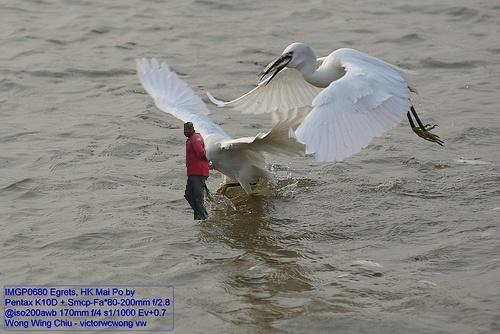tampered: (185, 123, 212, 220)
